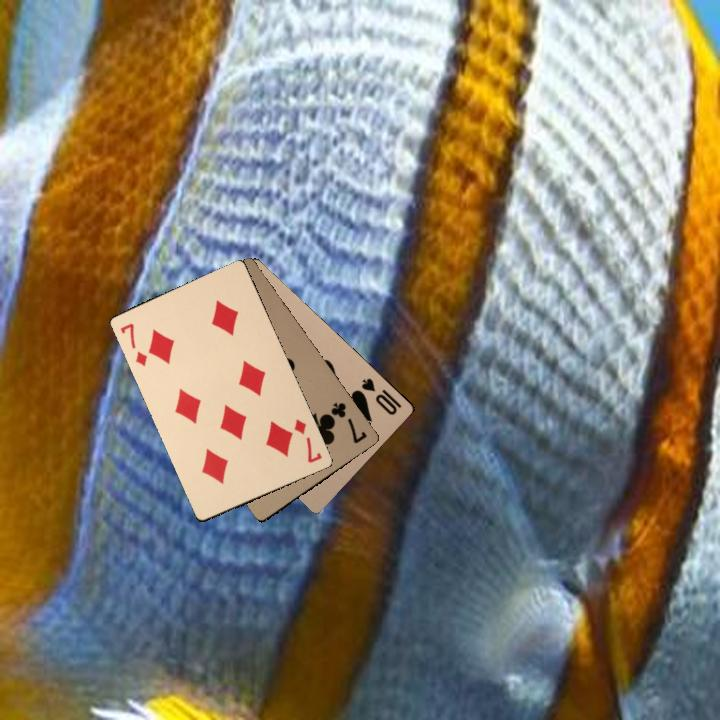10s: (357, 374, 404, 418)
7c: (326, 398, 370, 446)
7d: (290, 415, 325, 466), (116, 319, 150, 369)
